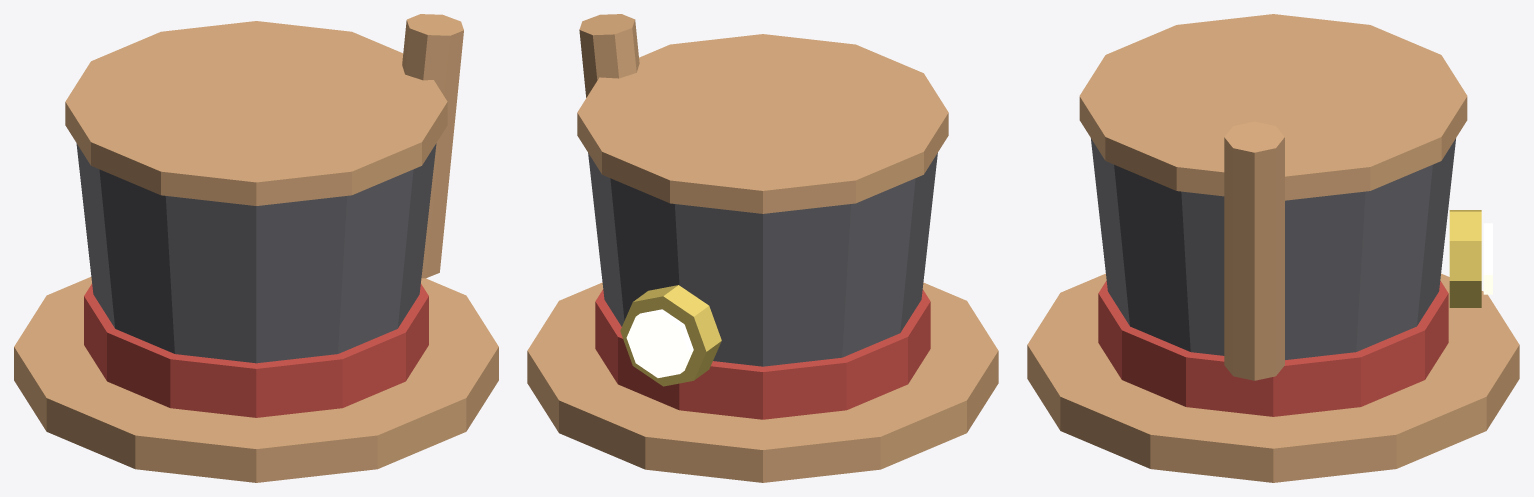
Rendered from dwarf_hat_crown.glb.
3 views of the same model, side by side, from view 1: azimuth 30°, elevation 25°; view 2: azimuth 150°, elevation 25°; view 3: azimuth 270°, elevation 25° (orthographic). The views are drawn at different scales.
Parts seen in each view (by area): view 1: DwarfHatCrown; view 2: DwarfHatCrown; view 3: DwarfHatCrown.
Boxes of the visible parts, x1=… form: DwarfHatCrown: x1=14, y1=14, x2=498, y2=482; DwarfHatCrown: x1=527, y1=14, x2=998, y2=482; DwarfHatCrown: x1=1027, y1=14, x2=1519, y2=482.
Size of the model in its own units: 0.52 by 0.3834 by 0.52.
